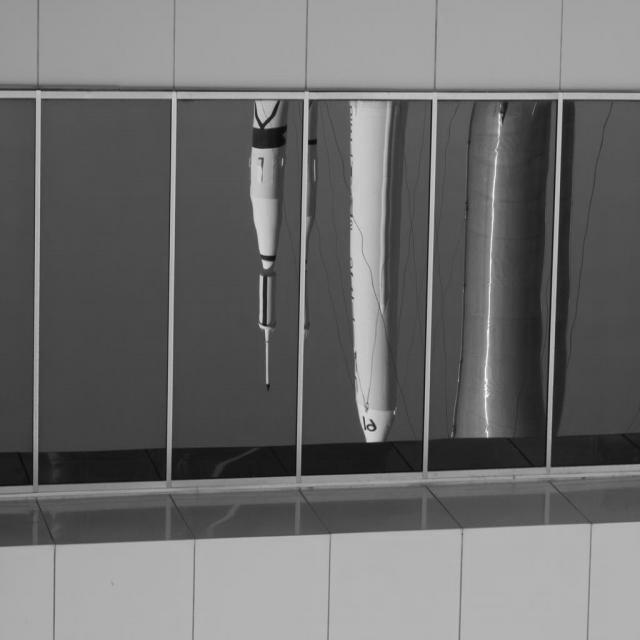missile: (345, 103, 404, 450), (249, 94, 286, 271)
